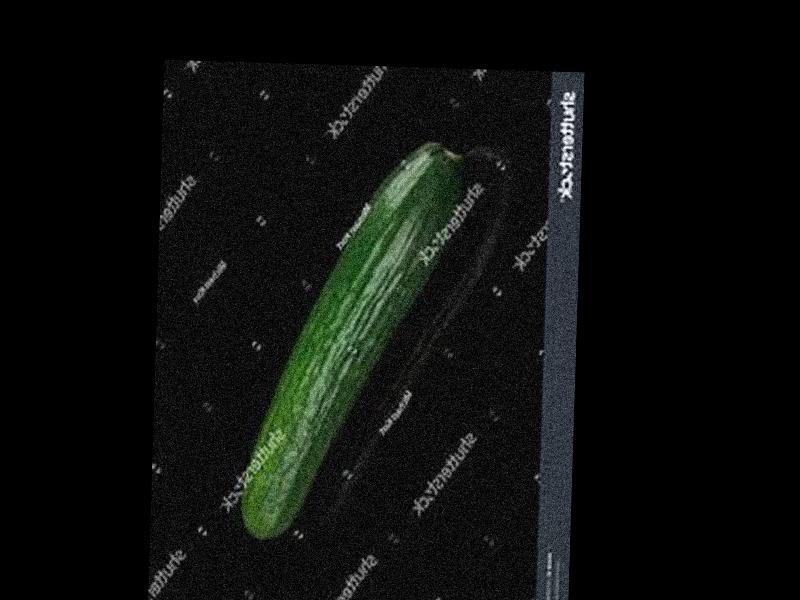Cucumber: (238, 137, 470, 547)
